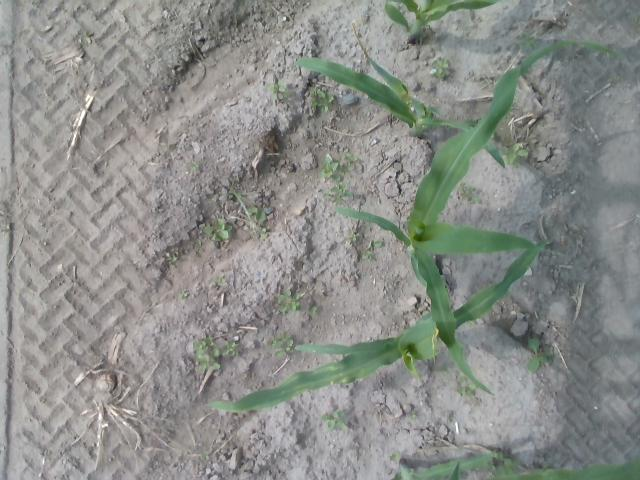Maize: (332, 38, 622, 399), (204, 234, 560, 416), (284, 58, 508, 172), (388, 452, 640, 480), (382, 1, 498, 44)
Weeds: (190, 336, 223, 374), (524, 340, 552, 374), (314, 156, 344, 184), (308, 87, 337, 114), (268, 330, 298, 356), (274, 289, 304, 313), (323, 184, 354, 206), (460, 180, 484, 208), (207, 221, 234, 245), (504, 144, 530, 167), (326, 410, 350, 434), (432, 60, 452, 82), (220, 338, 242, 357), (341, 151, 360, 171), (264, 82, 290, 96), (249, 208, 272, 223), (460, 380, 478, 398), (365, 250, 383, 264), (211, 274, 229, 287), (252, 226, 271, 238), (168, 252, 183, 266), (346, 230, 361, 243), (372, 240, 386, 251), (178, 290, 190, 300), (310, 308, 320, 318)
